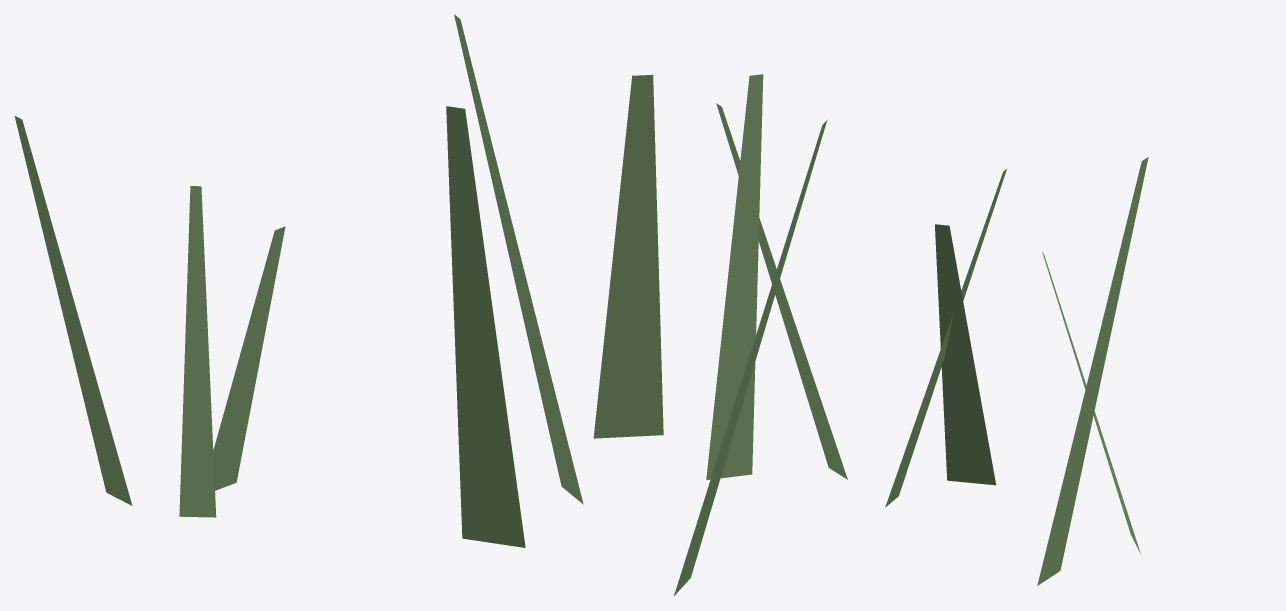
File: veg_grass_green_01.glb
3 renders of one model, left to right at view 1: azimuth 30°, elevation 25°; view 2: azimuth 150°, elevation 25°; view 3: azimuth 270°, elevation 25°, orthographic. The views are drawn at different scales.
Parts seen in each view (by area): view 1: blade_07, blade_01, blade_08; view 2: blade_04, blade_06, blade_03, blade_00, blade_01, blade_02; view 3: blade_05, blade_00, blade_02, blade_08.
Boxes of the visible parts, x1,y1,x2,y2 form: blade_07: [179, 186, 216, 517]; blade_01: [14, 116, 132, 505]; blade_08: [213, 226, 285, 490]; blade_04: [446, 106, 525, 547]; blade_06: [593, 74, 663, 438]; blade_03: [706, 74, 763, 480]; blade_00: [454, 14, 583, 504]; blade_01: [674, 120, 827, 595]; blade_02: [716, 103, 847, 479]; blade_05: [935, 224, 996, 485]; blade_00: [1037, 157, 1148, 585]; blade_02: [885, 169, 1006, 507]; blade_08: [1042, 251, 1140, 553].
Bounding box in the file's own units: 0.6369 × 0.8202 × 0.6453.
